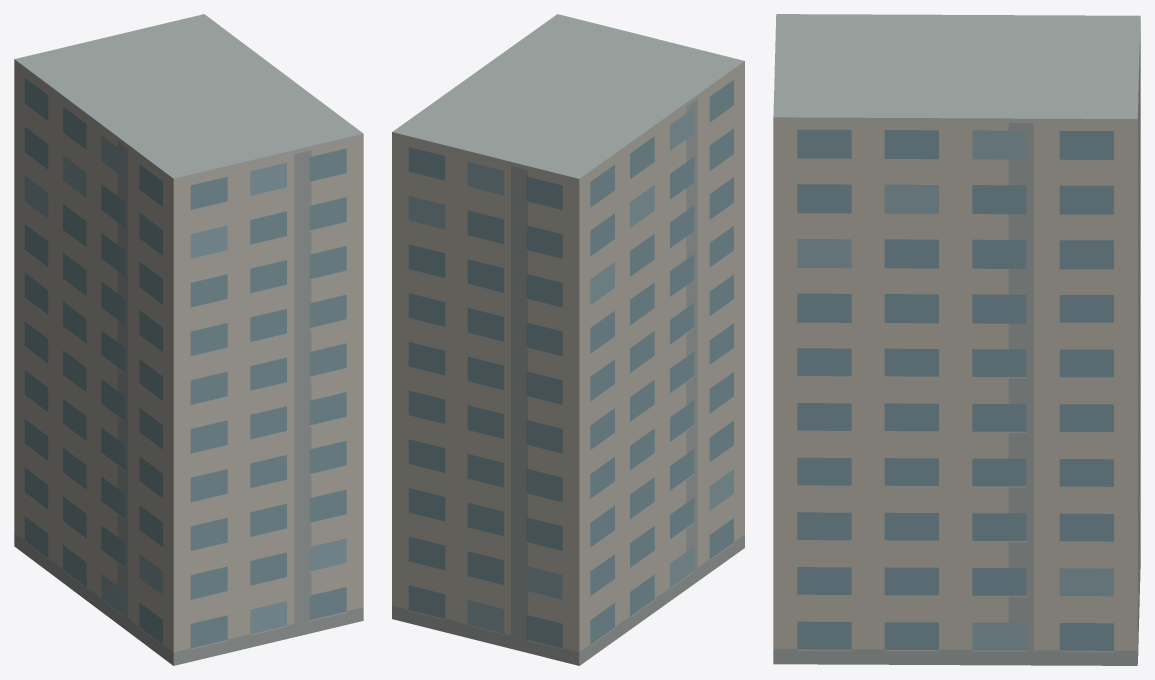
Rendered from residential-f1b6edcb-97f6-474a-aa4d-9bd2bf4f4529.glb.
3 views of the same model, side by side, from view 1: azimuth 30°, elevation 25°; view 2: azimuth 150°, elevation 25°; view 3: azimuth 270°, elevation 25° (orthographic). The views are drawn at different scales.
Parts seen in each view (by area): view 1: residential-f1b6edcb-97f6-474a-aa4d-9bd2bf4f4529.tmp; view 2: residential-f1b6edcb-97f6-474a-aa4d-9bd2bf4f4529.tmp; view 3: residential-f1b6edcb-97f6-474a-aa4d-9bd2bf4f4529.tmp.
Part boxes in pixels (x1=…): residential-f1b6edcb-97f6-474a-aa4d-9bd2bf4f4529.tmp: x1=14, y1=14, x2=363, y2=665; residential-f1b6edcb-97f6-474a-aa4d-9bd2bf4f4529.tmp: x1=392, y1=14, x2=744, y2=665; residential-f1b6edcb-97f6-474a-aa4d-9bd2bf4f4529.tmp: x1=773, y1=14, x2=1140, y2=665.
Bounding box in the file's own units: 11.96 × 29 × 17.66.
